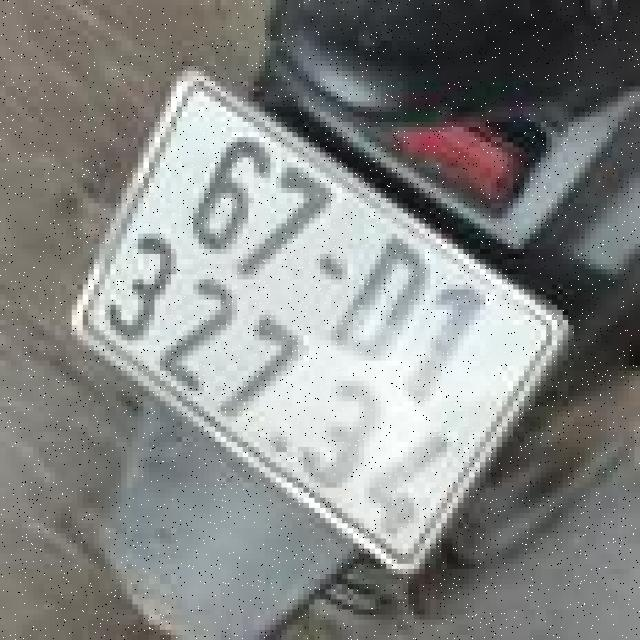1: (390, 268, 507, 414)
2: (146, 265, 266, 406)
3: (290, 368, 402, 502), (91, 221, 194, 357)
4: (351, 412, 471, 548)
6: (186, 123, 288, 261)
7: (223, 151, 351, 296), (199, 307, 327, 439)
D: (320, 223, 459, 383)
